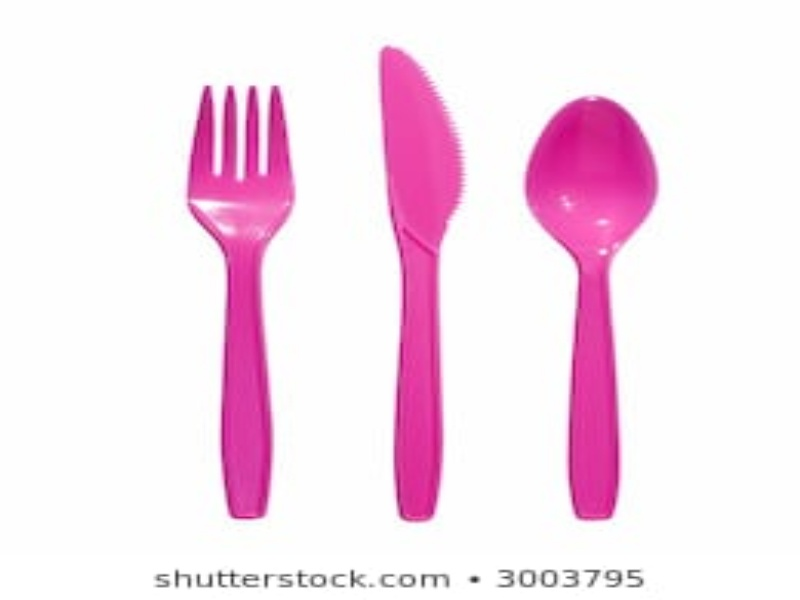plastic-silverware: (520, 93, 660, 522), (183, 82, 297, 519), (377, 41, 475, 520)
